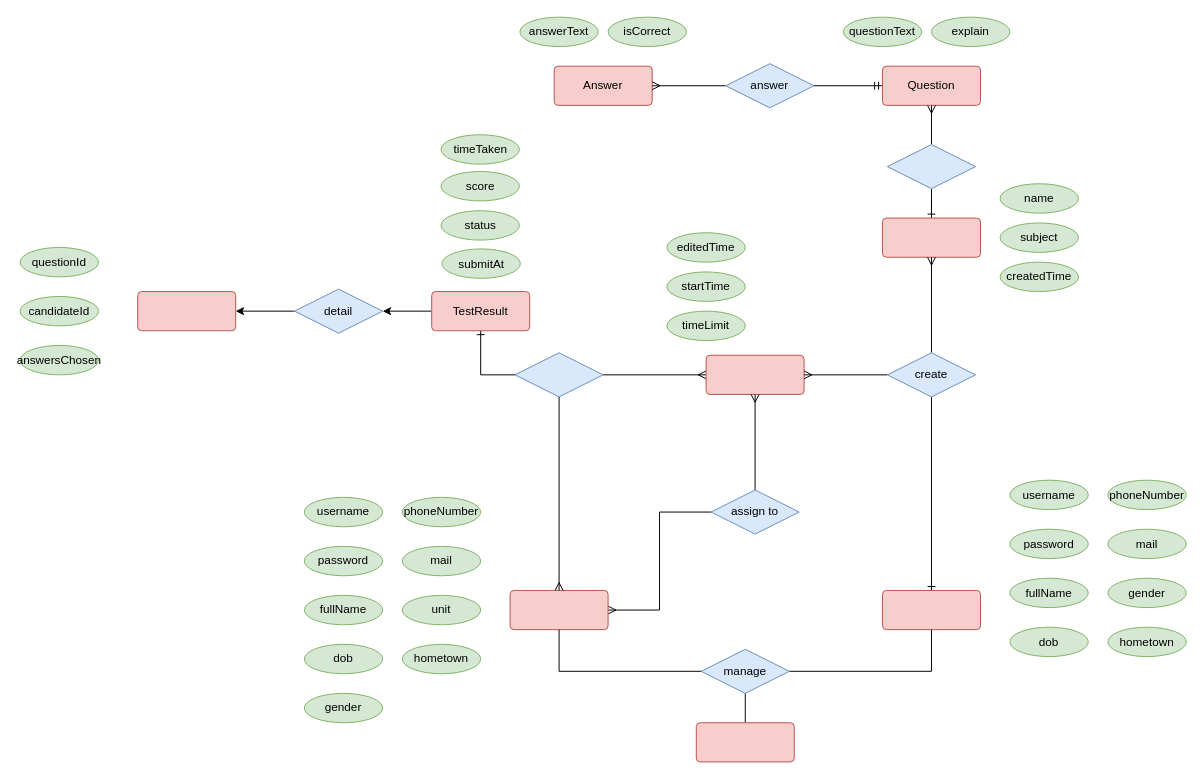
Image size: 1203x779. Some labels were removed from this diagram. The shapes that lost their labels are listed below. From the top down, each one's centre as x and y in pixels, then its label:
the point at 931,166: contain
the point at 931,237: Test
the point at 186,311: TestAnswer
the point at 558,374: take test
the point at 754,374: TestSession
the point at 558,609: Candidate
the point at 931,609: Teacher
the point at 744,742: Admin
